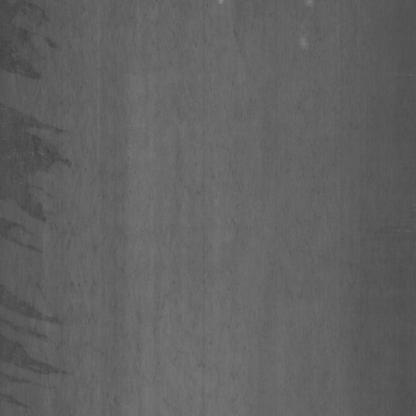water_spot: (3, 24, 76, 386)
